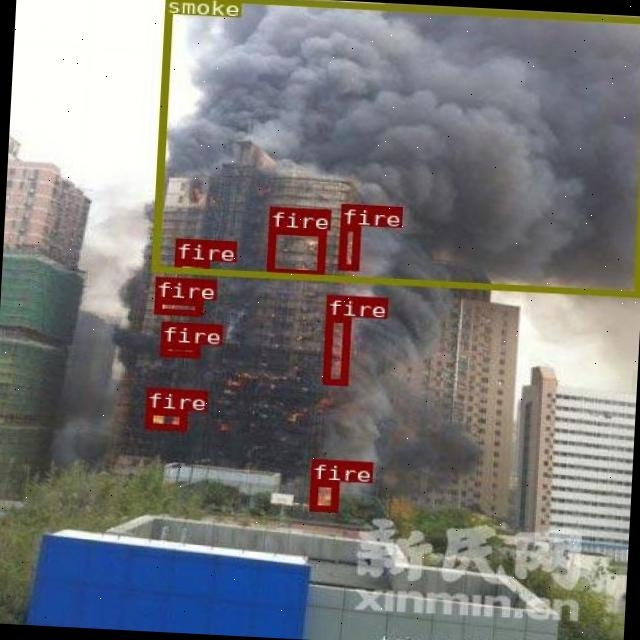fire: (266, 227, 324, 276), (322, 316, 350, 384), (337, 224, 359, 270), (308, 480, 338, 511), (144, 407, 186, 429), (153, 298, 201, 314), (159, 342, 199, 358), (173, 258, 208, 274)
smoke: (151, 0, 640, 295)
